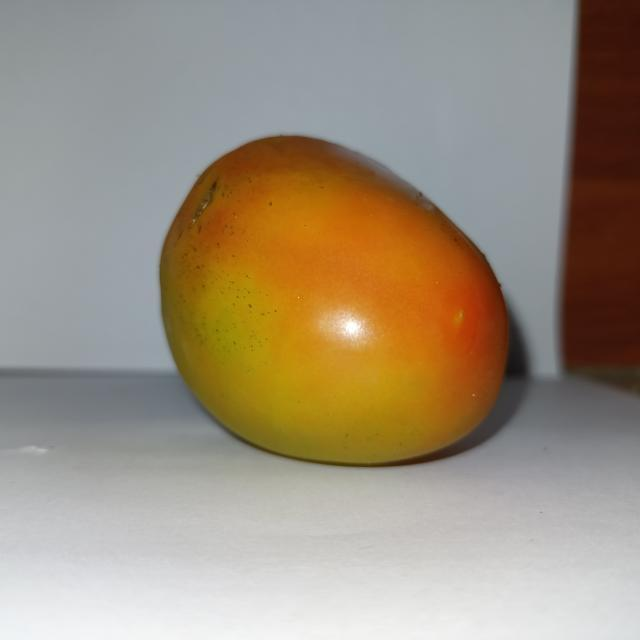Red: (157, 132, 511, 467)
